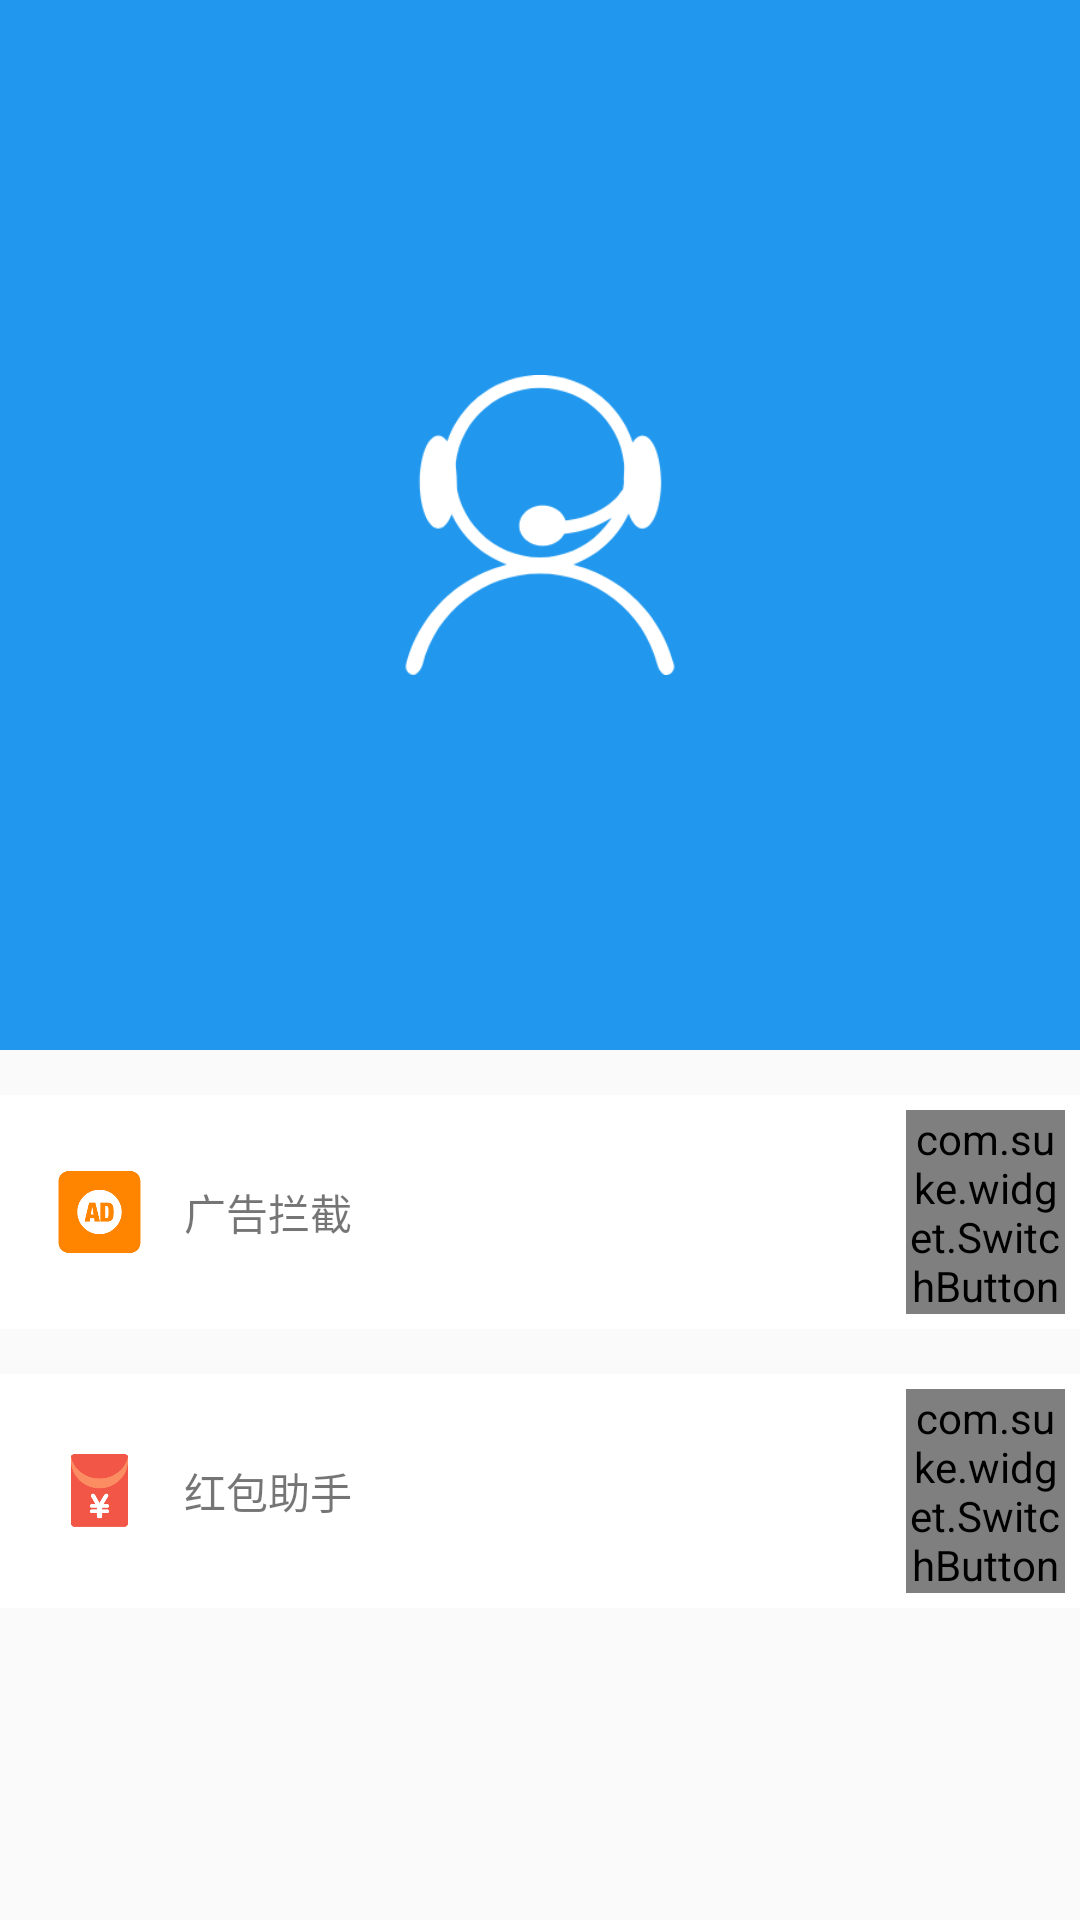

Where icons sit on this 1080*1920 app screen, as box(x1, y1, x2, y2):
assistant: box(405, 375, 675, 675)
packet: box(71, 1454, 128, 1527)
